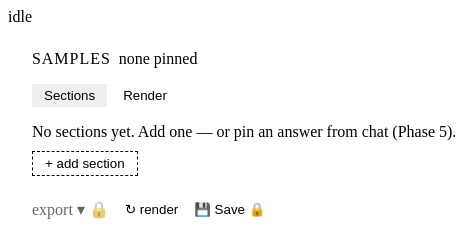
it: SmartReportBuilder — 2026-05-29-smart-report-screen Phase 4 › locks Save for an anonymous viewer (sign-in gate) — clicking opens the gate, does not persist
Expected: the text with test id "gate-status" reads "idle", [8, 8, 32, 25]
Click the button with test id "report-builder-save": coordinates (230, 210) [194, 202, 265, 217]
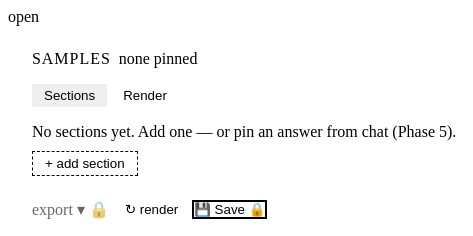
Expected: the text with test id "gate-status" reads "open", [8, 8, 39, 25]
